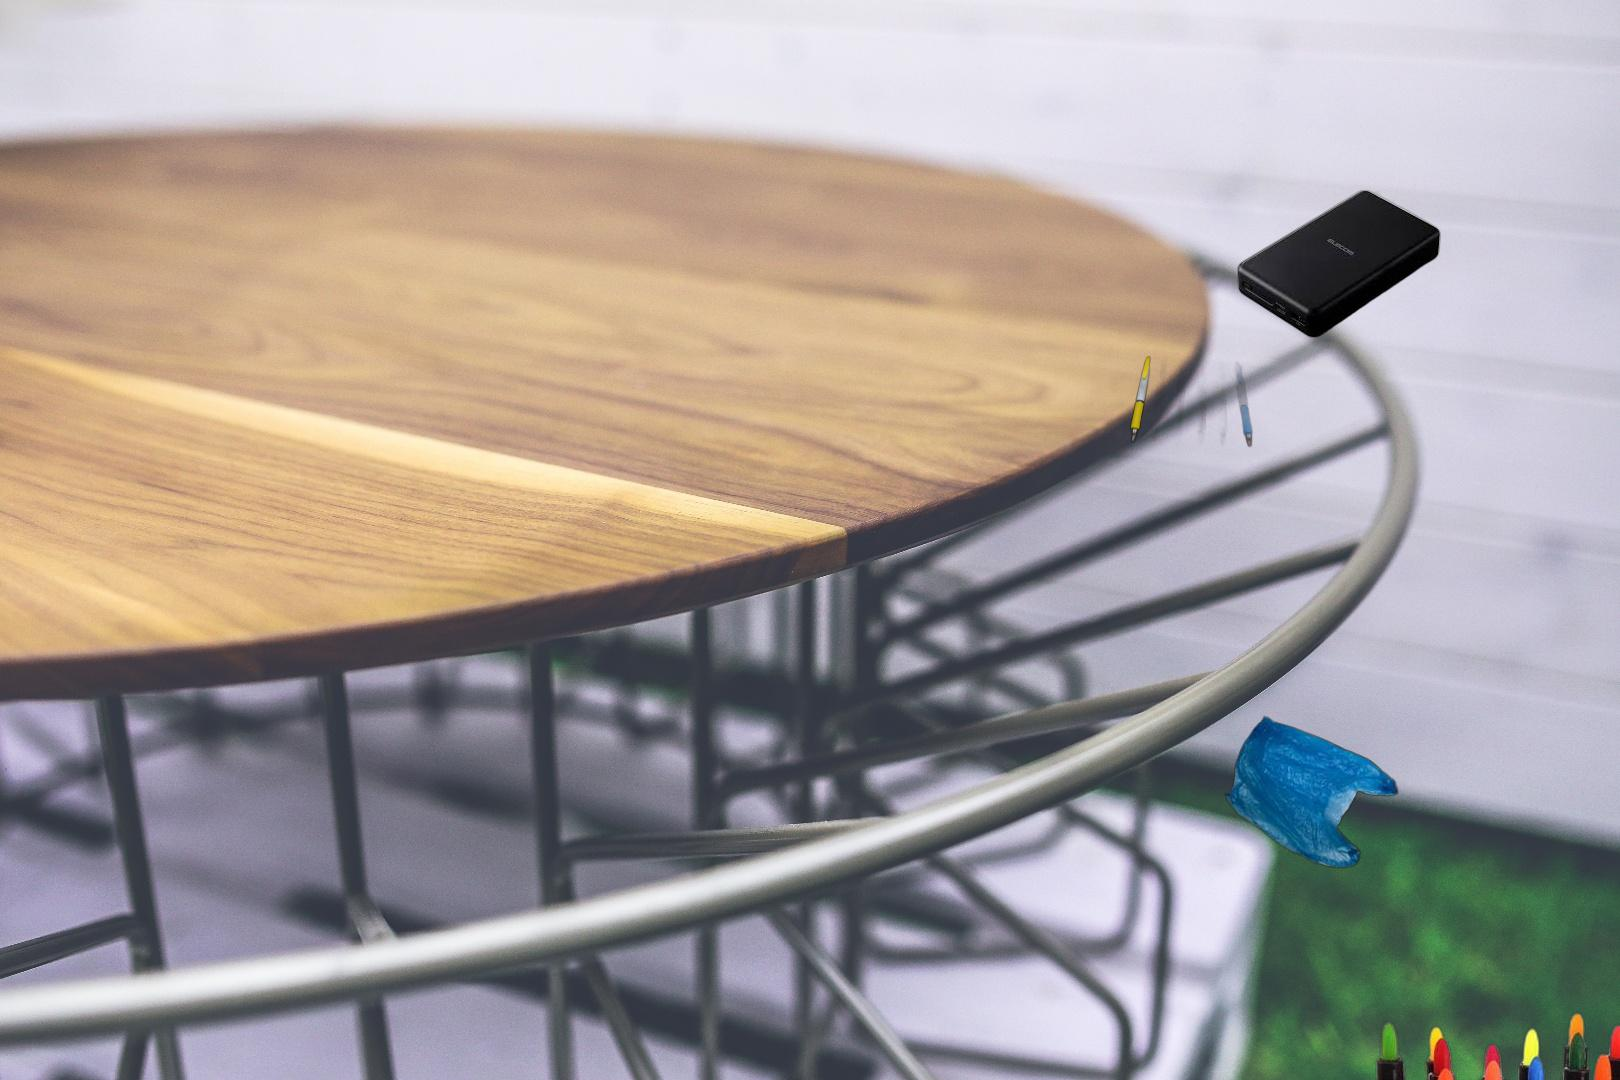battery: (1235, 187, 1443, 340)
penholder: (1360, 1008, 1620, 1080), (1123, 329, 1268, 457)
plastic-bag: (1222, 715, 1401, 871)
